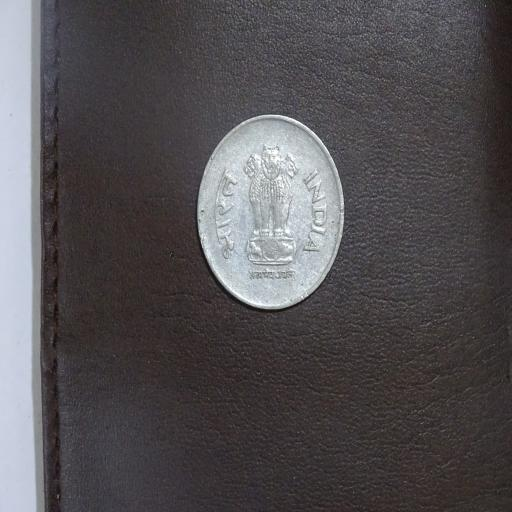rupee1: (198, 116, 345, 308)
